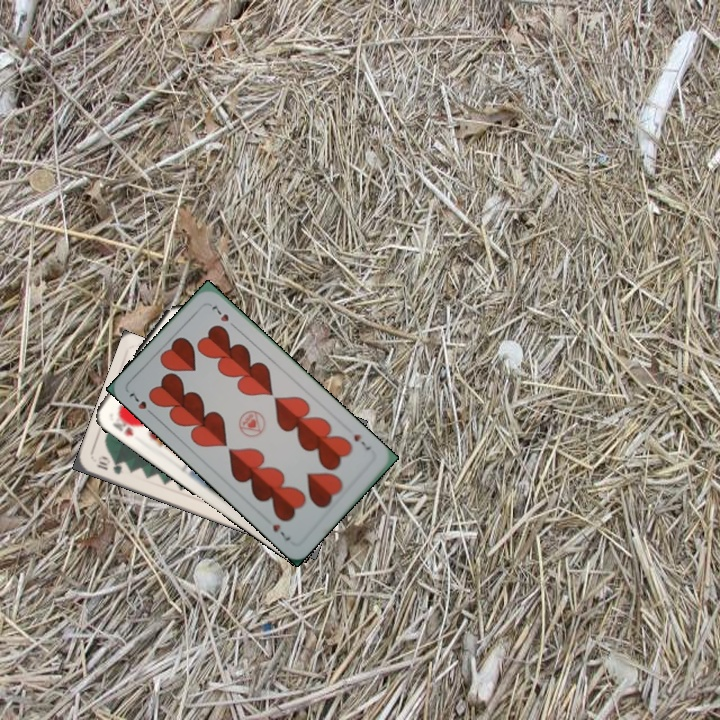G10: (92, 453, 125, 477)
H7: (125, 388, 157, 419), (350, 430, 373, 453)
HK: (109, 411, 137, 439)
